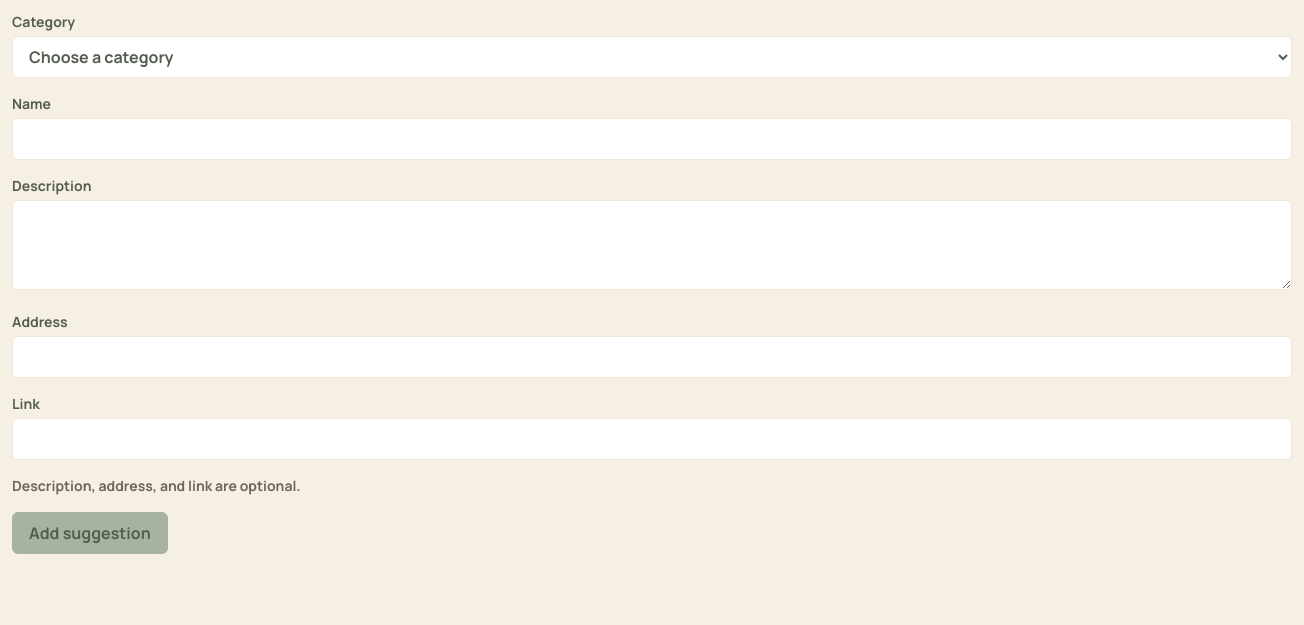
Scenario: SuggestionForm › asks for a name and a category before sending
Click the button "Add suggestion" at (90, 533), box [12, 512, 168, 554]
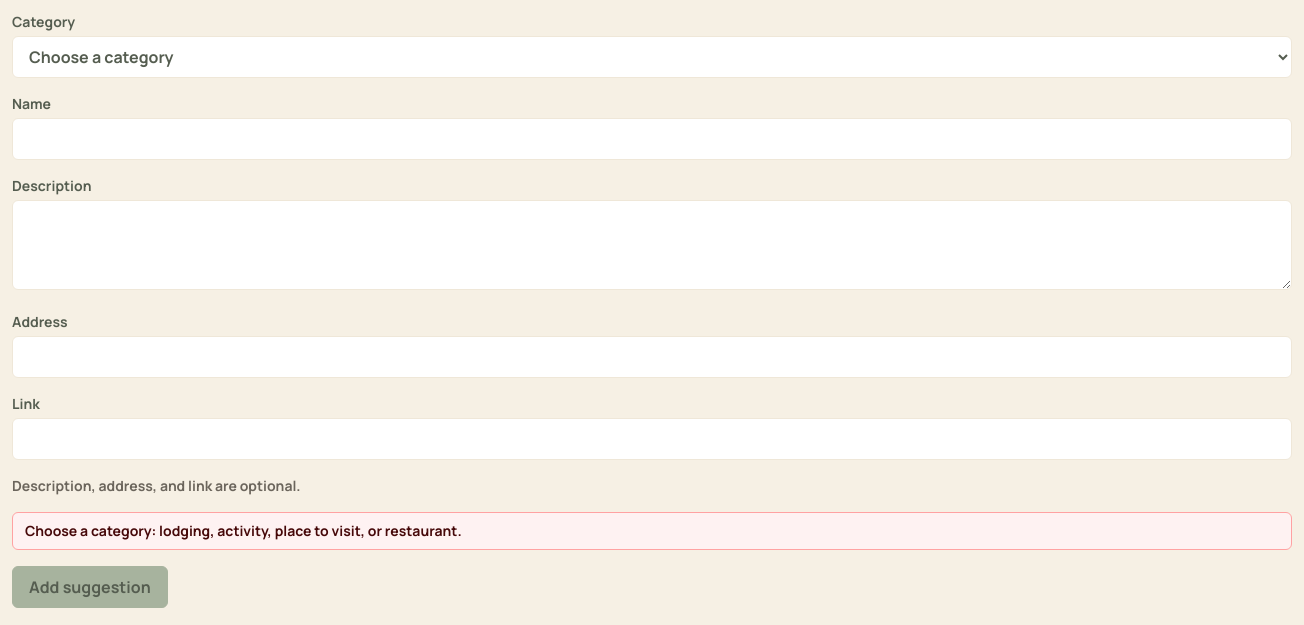
Now the message reads "Choose a category: lodging, activity, place to visit, or restaurant.", box [25, 521, 462, 540]
Select "Lodging" in the dropdown labelled "Category" at (652, 57), box [12, 36, 1292, 78]
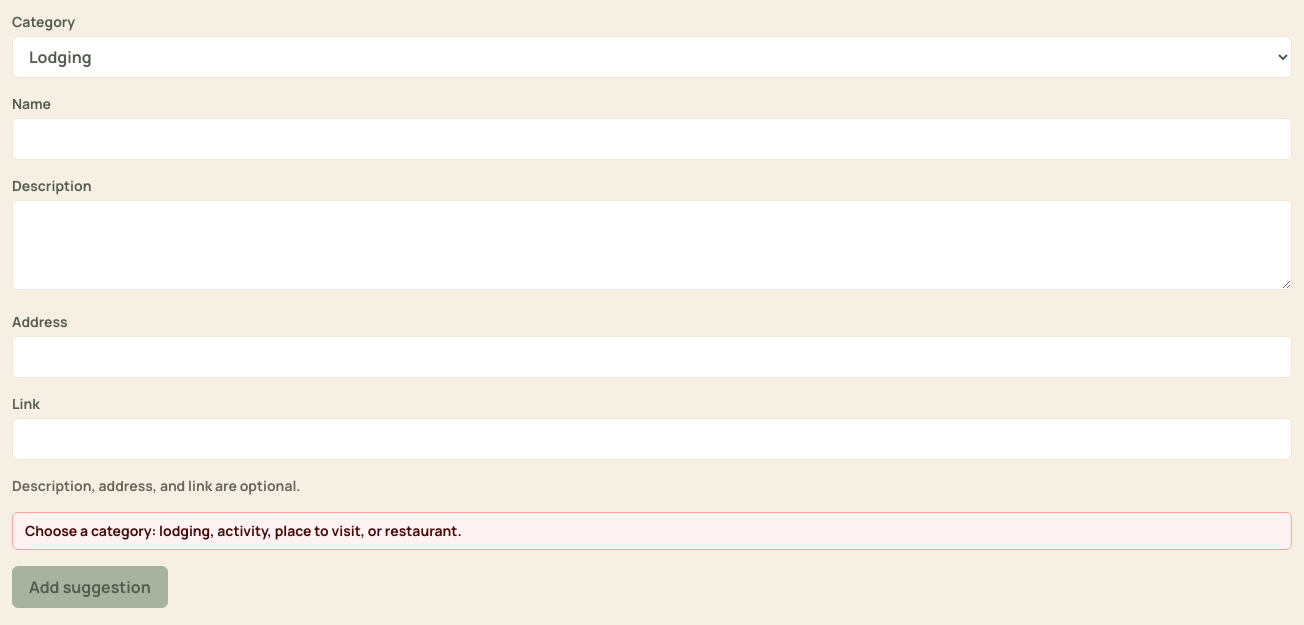
Click the button "Add suggestion" at (90, 587), box [12, 566, 168, 608]
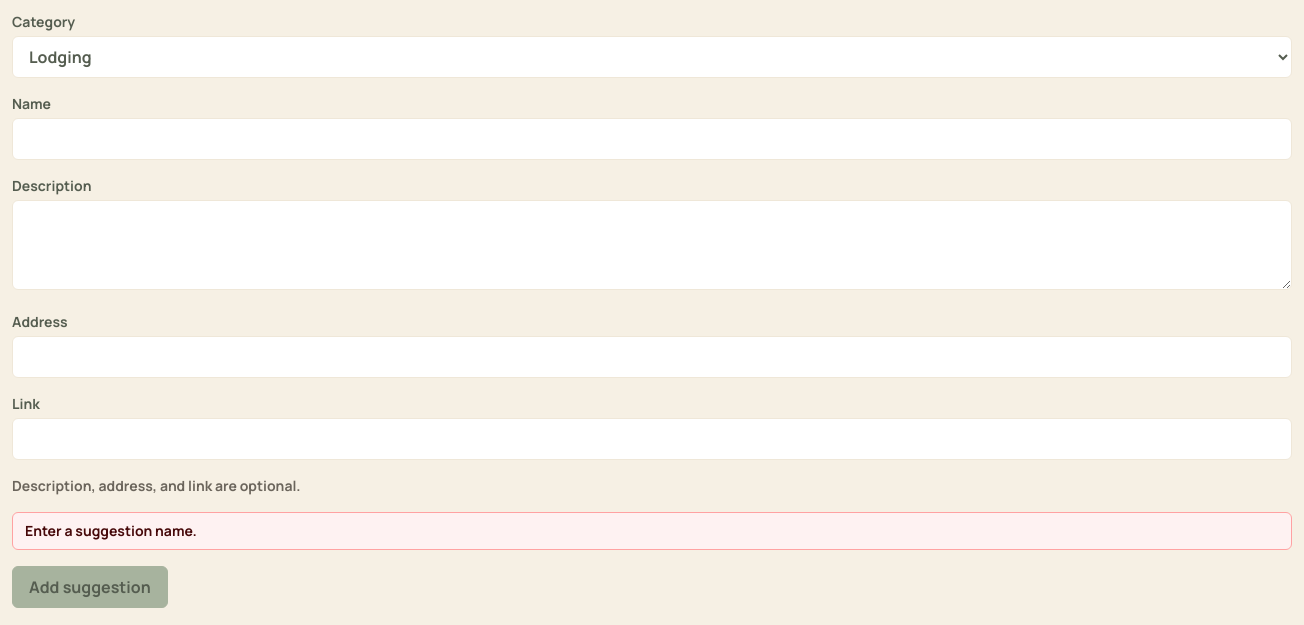
Now the message reads "Enter a suggestion name.", box [25, 521, 197, 540]
